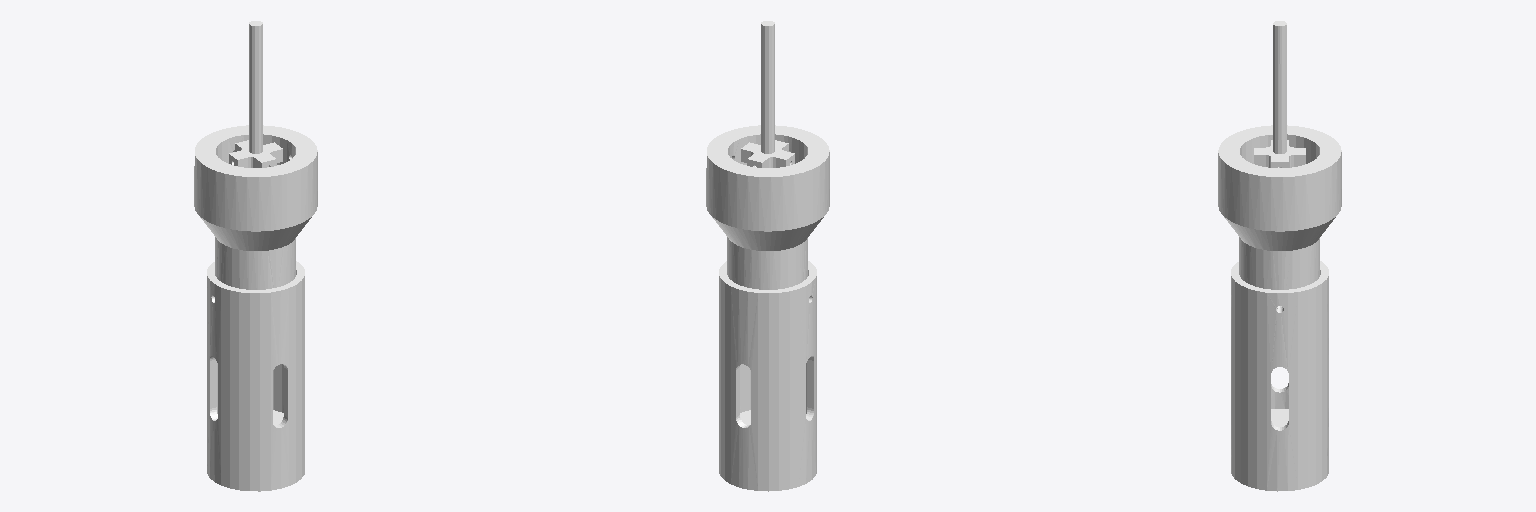
robot.urdf — cancellor:
<?xml version="1.0" encoding="utf-8"?>
<!-- This URDF was automatically created by SolidWorks to URDF Exporter! Originally created by [author] ([email redacted]) 
     Commit Version: 1.5.1-0-g916b5db  Build Version: 1.5.7152.31018
     For more information, please see http://wiki.ros.org/sw_urdf_exporter -->
<robot
  name="cancellor">
  <link
    name="base_link">
    <inertial>
      <origin
        xyz="8.06501835494806E-11 -0.0338780544641589 -6.13519647304395E-10"
        rpy="0 0 0" />
      <mass
        value="0.0365925774909924" />
      <inertia
        ixx="1.14555538013607E-05"
        ixy="1.40790430797004E-13"
        ixz="-3.85235521580481E-14"
        iyy="5.37588411827752E-06"
        iyz="-1.17698572171165E-13"
        izz="1.14526674484253E-05" />
    </inertial>
    <visual>
      <origin
        xyz="0 0 0"
        rpy="0 0 0" />
      <geometry>
        <mesh
          filename="package://cancellor/meshes/base_link.STL" />
      </geometry>
      <material
        name="">
        <color
          rgba="1 1 1 0.4" />
      </material>
    </visual>
    <collision>
      <origin
        xyz="0 0 0"
        rpy="0 0 0" />
      <geometry>
        <mesh
          filename="package://cancellor/meshes/base_link.STL" />
      </geometry>
    </collision>
  </link>
  <link
    name="end_link">
    <inertial>
      <origin
        xyz="5.39151995586174E-09 2.48615892588212E-09 0.0139122030459944"
        rpy="0 0 0" />
      <mass
        value="0.000930041634459067" />
      <inertia
        ixx="1.84743464948672E-07"
        ixy="1.91778613439961E-15"
        ixz="3.6797273718863E-14"
        iyy="1.84743477463938E-07"
        iyz="1.74269088454371E-14"
        izz="1.15847934315868E-08" />
    </inertial>
    <visual>
      <origin
        xyz="0 0 0"
        rpy="0 0 0" />
      <geometry>
        <mesh
          filename="package://cancellor/meshes/end_link.STL" />
      </geometry>
      <material
        name="">
        <color
          rgba="1 1 1 0.4" />
      </material>
    </visual>
    <collision>
      <origin
        xyz="0 0 0"
        rpy="0 0 0" />
      <geometry>
        <mesh
          filename="package://cancellor/meshes/end_link.STL" />
      </geometry>
    </collision>
  </link>
  <joint
    name="tip_joint"
    type="continuous">
    <origin
      xyz="0 0 0.007"
      rpy="0 0 0" />
    <parent
      link="base_link" />
    <child
      link="end_link" />
    <axis
      xyz="0 0 1" />
  </joint>
</robot>

--- Render facts (derived) ---
3 views of the same robot in one strip: view 1: azimuth 30°, elevation 25°; view 2: azimuth 150°, elevation 25°; view 3: azimuth 270°, elevation 25° (orthographic).
Model cancellor with 2 links and 1 joints (1 continuous), rooted at base_link, posed every joint at zero.
Links seen in each view (by area): view 1: base_link, end_link; view 2: base_link, end_link; view 3: base_link, end_link.
Boxes of the visible links, bbox=[...] form: base_link: bbox=[194, 125, 317, 491]; end_link: bbox=[229, 21, 282, 167]; base_link: bbox=[706, 125, 829, 491]; end_link: bbox=[741, 21, 794, 167]; base_link: bbox=[1218, 125, 1341, 491]; end_link: bbox=[1254, 21, 1305, 167].
Bounding box of the posed robot: 0.035 × 0.035 × 0.14 m (x, y, z).
2 mesh visuals loaded from 2 distinct referenced files (2 binary STL).